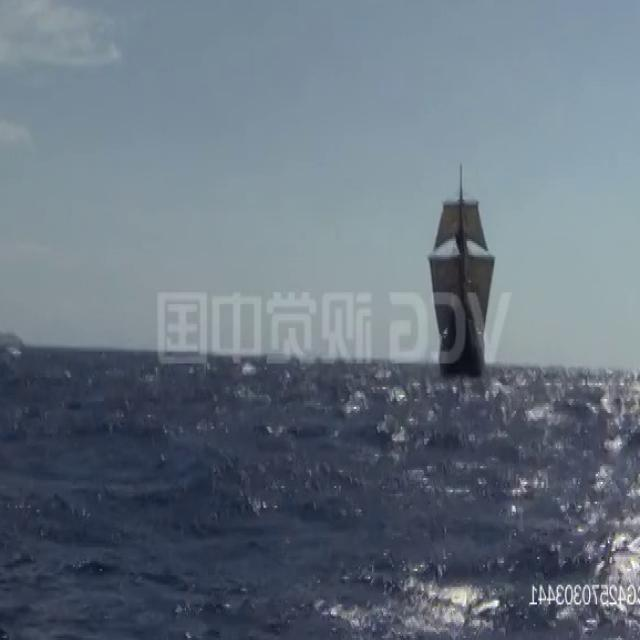sailboat: (426, 161, 496, 378)
